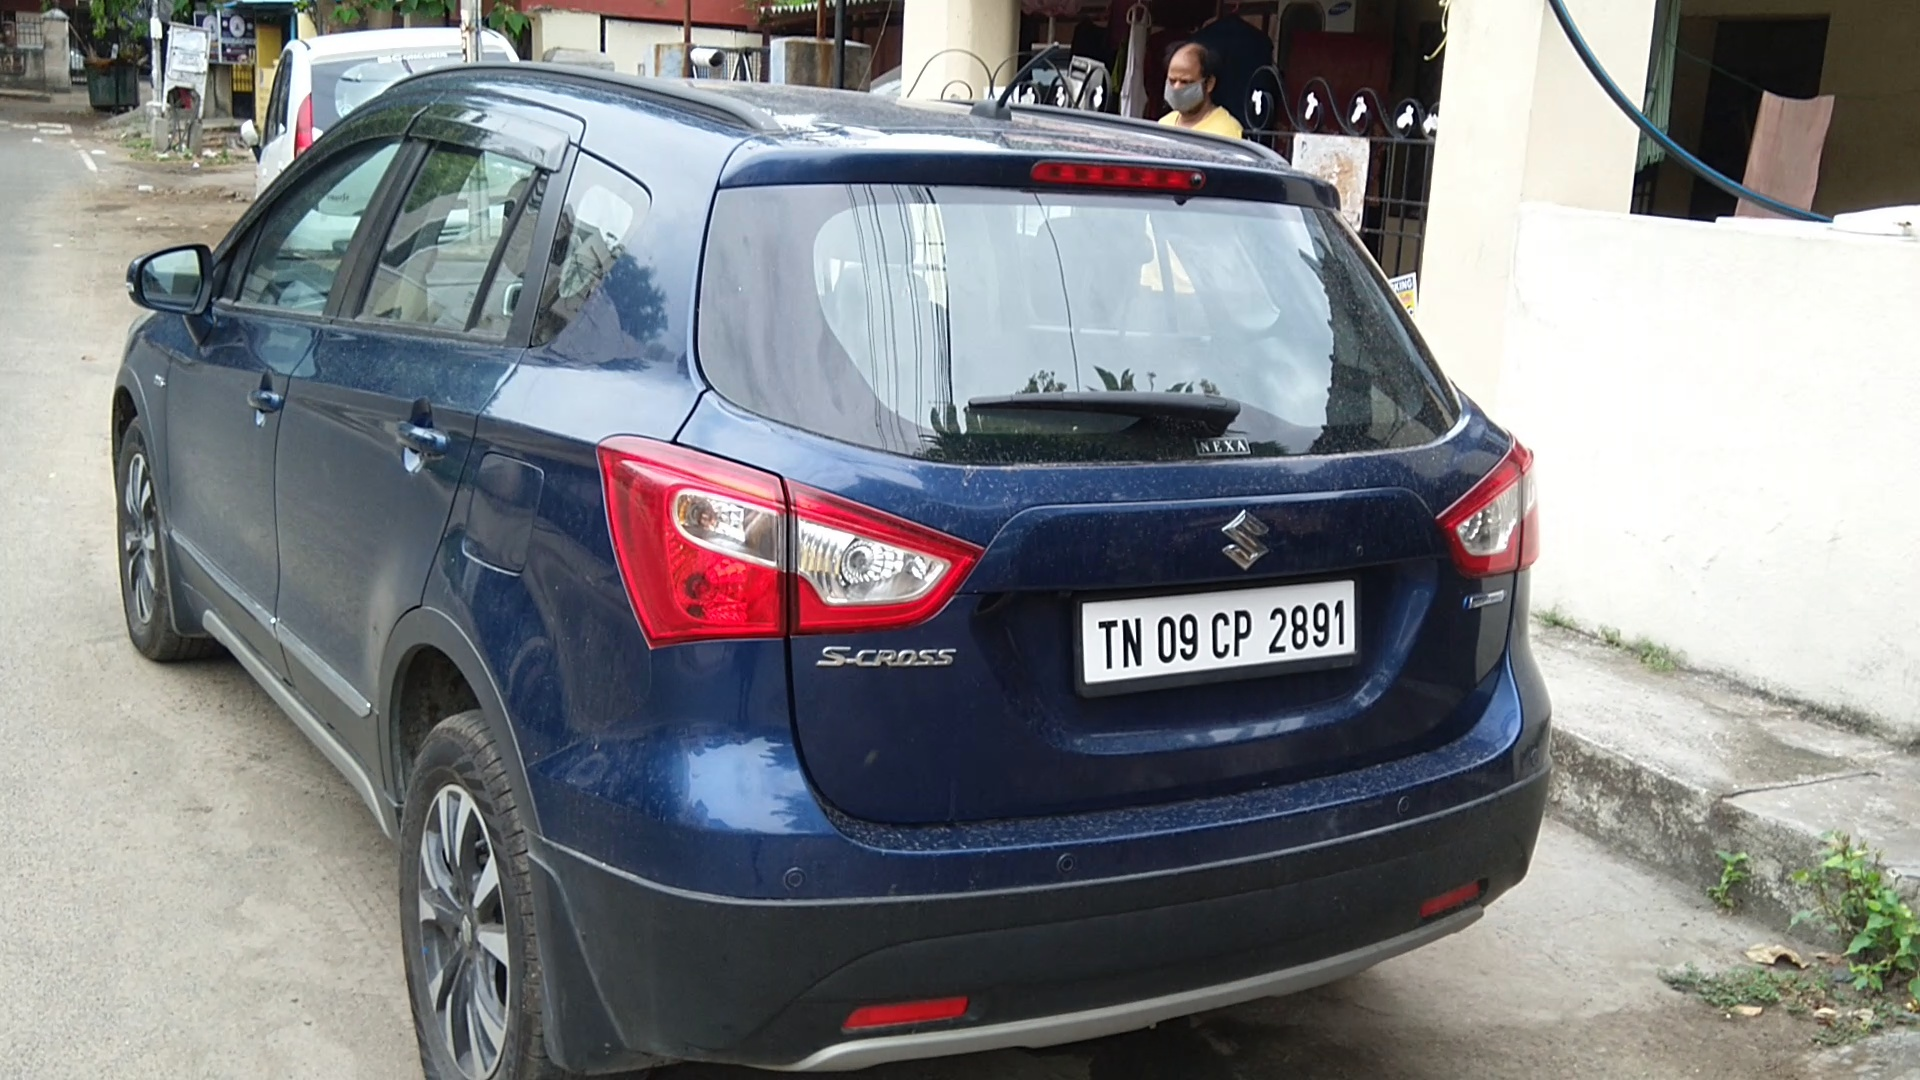alloy_wheel: (400, 713, 526, 1080), (111, 429, 185, 655)
rear_camera: (1179, 161, 1220, 199)
shvs: (1453, 578, 1514, 628)
